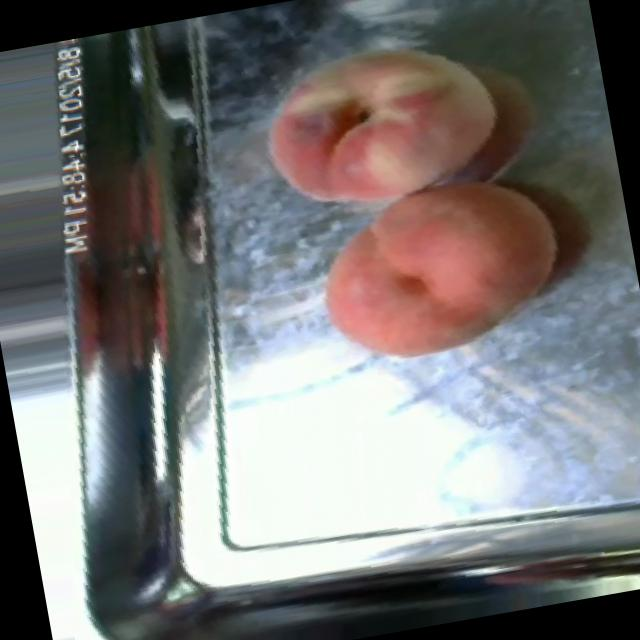Fruit: (290, 146, 588, 384), (237, 7, 525, 235)
